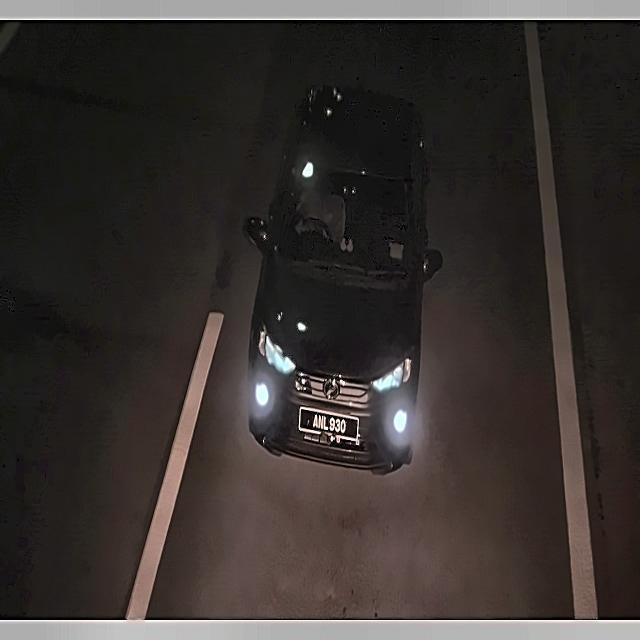car: (296, 401, 364, 448)
